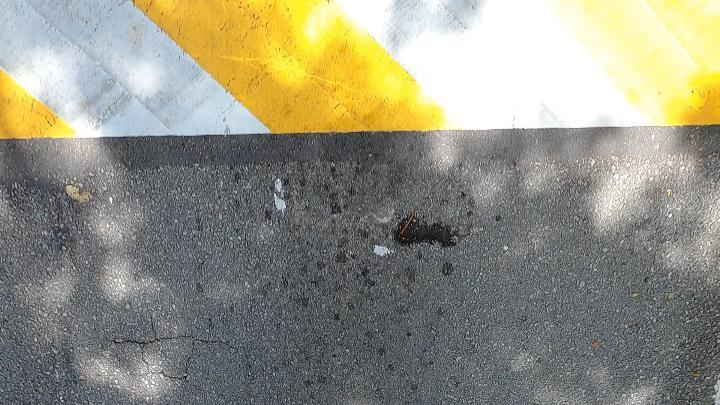Crack: (109, 319, 219, 382), (111, 324, 216, 363), (154, 340, 212, 380)
Lane: (0, 0, 720, 137), (0, 0, 719, 136)
